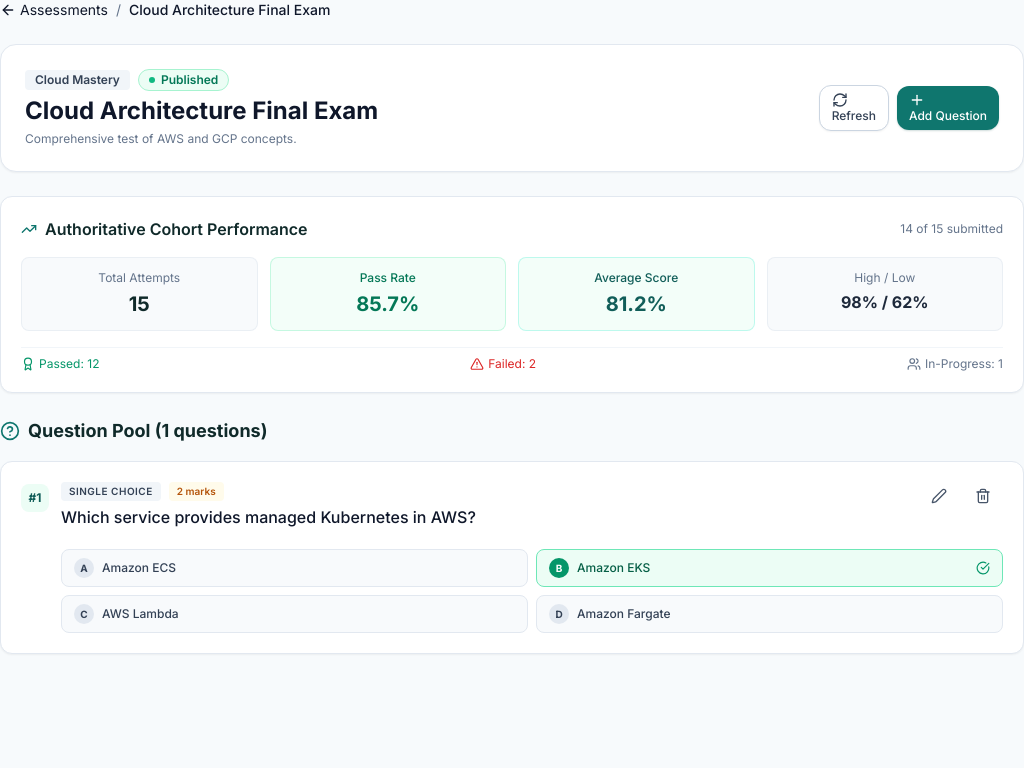
Scenario: TrainerAssessmentDetailPage › handles question deletion with confirmation
Expected: the heading "Which service provides managed Kubernetes in AWS?" is shown, [61,505,476,529]
Click the button named "Delete question #1" at (983, 496), box [963,482,1003,510]
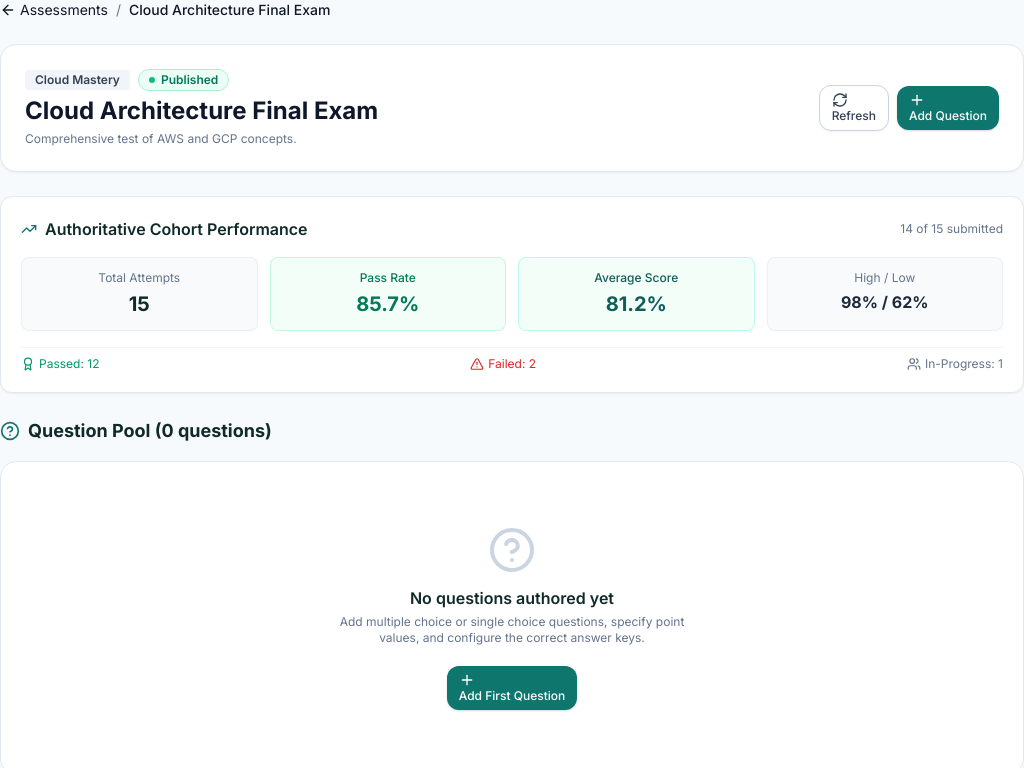
Expected: the heading "Which service provides managed Kubernetes in AWS?" is gone
